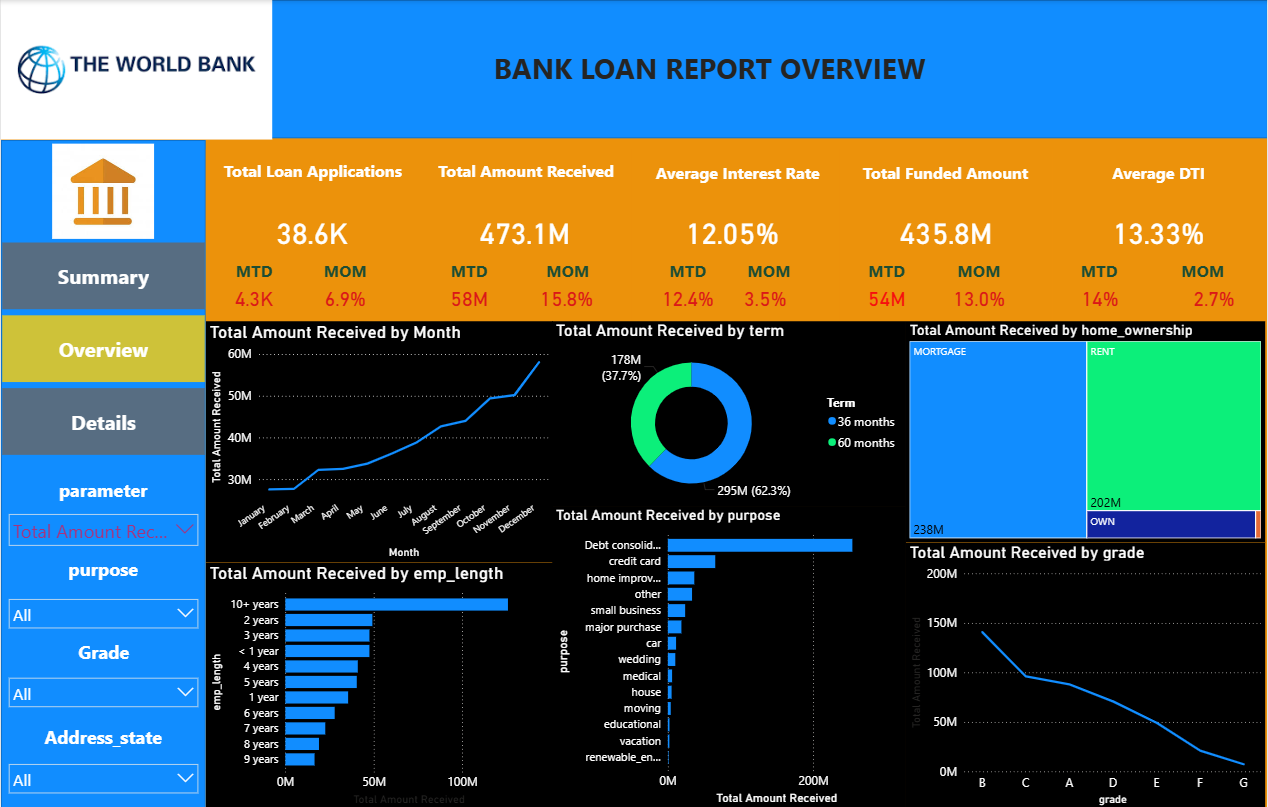

The page's visual inventory and layout, read from the dashboard file:
{"tool":"powerbi","page":{"name":"Overview","canvas":[1670,1066],"ordinal":1},"visuals":[{"type":"shape","box":[0,0,1670.1,182.2],"z":0},{"type":"image","box":[0,0,357.2,184],"z":1000},{"type":"shape","box":[0,184,269.7,882.4],"z":2000},{"type":"image","box":[63.3,184.7,144.3,135.5],"z":3000},{"type":"textbox","box":[635.9,58.9,596.6,62.5],"z":4000},{"type":"card","fields":{"Values":["financial_loan_full.Total Loan applications"]},"box":[269.7,184,280.4,240],"z":5000},{"type":"textbox","box":[271.5,205.4,278.6,48.2],"z":6000},{"type":"card","fields":{"Values":["financial_loan_full.Total Funded Amount"]},"box":[1105.7,184,280.4,240],"z":7000},{"type":"card","fields":{"Values":["financial_loan_full.Average Interest rate"]},"box":[823.4,184,280.4,240],"z":8000},{"type":"card","fields":{"Values":["financial_loan_full.Total Amount Received"]},"box":[550.2,184,280.4,240],"z":9000},{"type":"textbox","box":[1103.9,207.2,282.2,48.2],"z":10000},{"type":"textbox","box":[550.2,205.4,284,50],"z":11000},{"type":"textbox","box":[835.9,207.2,271.5,48.2],"z":12000},{"type":"slicer","fields":{"Values":["financial_loan_full.purpose"]},"box":[0,778.8,269.7,60.7],"z":13000},{"type":"textbox","box":[0,728.8,269.7,50],"z":14000},{"type":"slicer","fields":{"Values":["financial_loan_full.grade"]},"box":[0,884.2,269.7,66.1],"z":15000},{"type":"slicer","fields":{"Values":["financial_loan_full.address_state"]},"box":[0,996.7,269.7,69.7],"z":16000},{"type":"textbox","box":[1.8,839.5,267.9,44.7],"z":17000},{"type":"textbox","box":[0,950.3,269.7,46.4],"z":18000},{"type":"pageNavigator","box":[1.8,319.7,267.9,280.4],"z":19000},{"type":"card","fields":{"Values":["financial_loan_full.Average dti"]},"box":[1386.1,184,280.4,240],"z":20000},{"type":"textbox","box":[1386.1,207.2,280.4,50],"z":21000},{"type":"card","fields":{"Values":["financial_loan_full.MTD Loan Applications"]},"box":[289.4,362.6,87.5,60.7],"z":22000},{"type":"textbox","box":[289.4,337.6,87.5,39.3],"z":23000},{"type":"card","fields":{"Values":["financial_loan_full.MoM Loan Applications"]},"box":[410.8,362.6,87.5,60.7],"z":24000},{"type":"textbox","box":[862.7,337.6,87.5,39.3],"z":25000},{"type":"textbox","box":[573.4,337.6,87.5,39.3],"z":26000},{"type":"textbox","box":[1123.5,337.6,87.5,39.3],"z":27000},{"type":"textbox","box":[1404,337.6,87.5,39.3],"z":28000},{"type":"textbox","box":[410.8,337.6,87.5,39.3],"z":29000},{"type":"textbox","box":[703.8,337.6,87.5,39.3],"z":30000},{"type":"textbox","box":[1246.8,337.6,87.5,39.3],"z":31000},{"type":"textbox","box":[969.9,337.6,87.5,39.3],"z":32000},{"type":"textbox","box":[1541.5,337.6,87.5,39.3],"z":33000},{"type":"card","fields":{"Values":["financial_loan_full.MoM DTI"]},"box":[1555.8,362.6,87.5,60.7],"z":34000},{"type":"card","fields":{"Values":["financial_loan_full.MoM Funded Amount"]},"box":[1246.8,362.6,87.5,60.7],"z":35000},{"type":"card","fields":{"Values":["financial_loan_full.MoM Average int rate"]},"box":[964.5,362.6,87.5,60.7],"z":36000},{"type":"card","fields":{"Values":["financial_loan_full.MoM Received Amount"]},"box":[702,362.6,87.5,60.7],"z":37000},{"type":"card","fields":{"Values":["financial_loan_full.MTD Funded Amount"]},"box":[1123.5,362.6,87.5,60.7],"z":38000},{"type":"card","fields":{"Values":["financial_loan_full.MTD Average rate"]},"box":[862.7,362.6,87.5,60.7],"z":39000},{"type":"card","fields":{"Values":["financial_loan_full.MTD Received Amount"]},"box":[573.4,362.6,87.5,60.7],"z":40000},{"type":"card","fields":{"Values":["financial_loan_full.MTD Average Dti"]},"box":[1411.1,362.6,76.8,60.7],"z":41000},{"type":"textbox","box":[0,625.2,269.7,50],"z":42000},{"type":"slicer","fields":{"Values":["Parameter.Parameter"]},"box":[0,668.3,270.2,61.2],"z":43000},{"type":"lineChart","fields":{"Y":["financial_loan_full.Total Amount Received"],"Category":["Date Table.Date.Variation.Date Hierarchy.Month"]},"box":[269.7,423.3,457.3,317.9],"z":44000},{"type":"clusteredBarChart","fields":{"Y":["financial_loan_full.Total Amount Received"],"Category":["financial_loan_full.emp_length"]},"box":[269.7,741.3,457.3,325.1],"z":45000},{"type":"donutChart","fields":{"Y":["financial_loan_full.Total Amount Received"],"Category":["financial_loan_full.term"]},"box":[727,423.3,466.2,244.7],"z":46000},{"type":"clusteredBarChart","fields":{"Y":["financial_loan_full.Total Amount Received"],"Category":["financial_loan_full.purpose"]},"box":[727,668,466.2,398.3],"z":47000},{"type":"treemap","fields":{"Values":["financial_loan_full.Total Amount Received"],"Group":["financial_loan_full.home_ownership"]},"box":[1193.2,423.3,473.3,291.2],"z":48000},{"type":"lineChart","fields":{"Y":["financial_loan_full.Total Amount Received"],"Category":["financial_loan_full.grade"]},"box":[1193.2,714.5,473.3,351.9],"z":49000}]}

Visuals, with their boxes in screenshot pixels (x1, y1, x2, y2), scaled from the page's 1670x1066 canvas onto the 1268x807 screenshot:
shape: box(0, 0, 1267, 138)
image: box(0, 0, 271, 139)
shape: box(0, 139, 205, 806)
image: box(48, 140, 158, 242)
textbox: box(483, 45, 936, 92)
card - financial_loan_full.Total Loan applications: box(205, 139, 418, 321)
textbox: box(206, 155, 418, 192)
card - financial_loan_full.Total Funded Amount: box(840, 139, 1052, 321)
card - financial_loan_full.Average Interest rate: box(625, 139, 838, 321)
card - financial_loan_full.Total Amount Received: box(418, 139, 631, 321)
textbox: box(838, 157, 1052, 193)
textbox: box(418, 155, 633, 193)
textbox: box(635, 157, 841, 193)
slicer - financial_loan_full.purpose: box(0, 590, 205, 636)
textbox: box(0, 552, 205, 590)
slicer - financial_loan_full.grade: box(0, 669, 205, 719)
slicer - financial_loan_full.address_state: box(0, 755, 205, 806)
textbox: box(1, 636, 205, 669)
textbox: box(0, 719, 205, 755)
pageNavigator: box(1, 242, 205, 454)
card - financial_loan_full.Average dti: box(1052, 139, 1265, 321)
textbox: box(1052, 157, 1265, 195)
card - financial_loan_full.MTD Loan Applications: box(220, 275, 286, 320)
textbox: box(220, 256, 286, 285)
card - financial_loan_full.MoM Loan Applications: box(312, 275, 378, 320)
textbox: box(655, 256, 721, 285)
textbox: box(435, 256, 502, 285)
textbox: box(853, 256, 919, 285)
textbox: box(1066, 256, 1132, 285)
textbox: box(312, 256, 378, 285)
textbox: box(534, 256, 601, 285)
textbox: box(947, 256, 1013, 285)
textbox: box(736, 256, 803, 285)
textbox: box(1170, 256, 1237, 285)
card - financial_loan_full.MoM DTI: box(1181, 275, 1248, 320)
card - financial_loan_full.MoM Funded Amount: box(947, 275, 1013, 320)
card - financial_loan_full.MoM Average int rate: box(732, 275, 799, 320)
card - financial_loan_full.MoM Received Amount: box(533, 275, 599, 320)
card - financial_loan_full.MTD Funded Amount: box(853, 275, 919, 320)
card - financial_loan_full.MTD Average rate: box(655, 275, 721, 320)
card - financial_loan_full.MTD Received Amount: box(435, 275, 502, 320)
card - financial_loan_full.MTD Average Dti: box(1071, 275, 1130, 320)
textbox: box(0, 473, 205, 511)
slicer - Parameter.Parameter: box(0, 506, 205, 552)
lineChart - financial_loan_full.Total Amount Received x Date Table.Date.Variation.Date Hierarchy.Month: box(205, 320, 552, 561)
clusteredBarChart - financial_loan_full.Total Amount Received x financial_loan_full.emp_length: box(205, 561, 552, 806)
donutChart - financial_loan_full.Total Amount Received x financial_loan_full.term: box(552, 320, 906, 506)
clusteredBarChart - financial_loan_full.Total Amount Received x financial_loan_full.purpose: box(552, 506, 906, 806)
treemap - financial_loan_full.Total Amount Received x financial_loan_full.home_ownership: box(906, 320, 1265, 541)
lineChart - financial_loan_full.Total Amount Received x financial_loan_full.grade: box(906, 541, 1265, 806)
